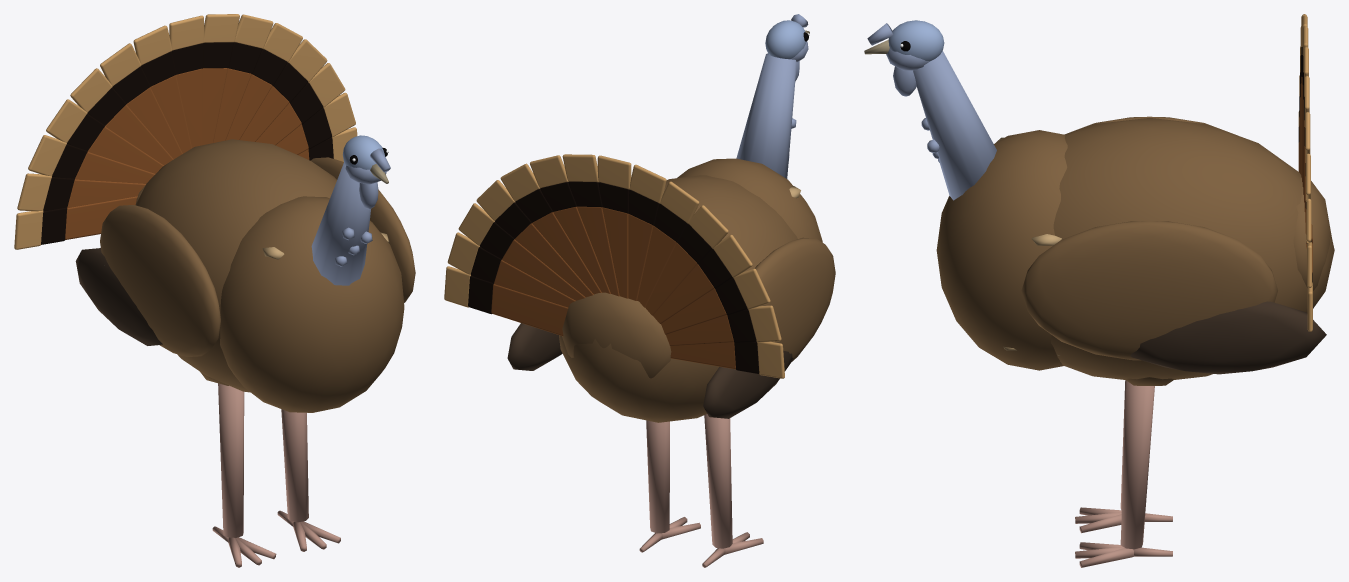
The model's file is turkeyhen.glb.
3 views of the same model, side by side, from view 1: azimuth 30°, elevation 25°; view 2: azimuth 150°, elevation 25°; view 3: azimuth 270°, elevation 25° (orthographic). The views are drawn at different scales.
Parts seen in each view (by area): view 1: tk_breast, tk_body, tk_wingm, tk_neck, tk_leg, tk_prim, tk_leg.001, tk_wingm.001, tk_feather.012, tk_feather, tk_feather.009, tk_feather.015 (+39 smaller); view 2: tk_body, tk_wingm, tk_rump, tk_neck, tk_breast, tk_leg, tk_prim, tk_leg.001, tk_feather.042, tk_prim.001, tk_feather.021, tk_feather.024 (+43 smaller); view 3: tk_body, tk_wingm.001, tk_breast, tk_prim.001, tk_neck, tk_leg.001, tk_rump, tk_headm.
Part boxes in pixels (<box>): tk_breast: <box>220,196,404,412</box>; tk_body: <box>136,139,336,392</box>; tk_wingm: <box>100,205,220,356</box>; tk_neck: <box>311,162,370,285</box>; tk_leg: <box>218,383,244,537</box>; tk_prim: <box>75,248,162,345</box>; tk_leg.001: <box>281,409,308,522</box>; tk_wingm.001: <box>310,157,415,302</box>; tk_feather.012: <box>105,104,173,165</box>; tk_feather: <box>65,196,137,239</box>; tk_feather.009: <box>88,126,163,173</box>; tk_feather.015: <box>126,87,182,158</box>; tk_body: <box>559,175,797,422</box>; tk_wingm: <box>755,237,835,361</box>; tk_rump: <box>562,292,671,378</box>; tk_neck: <box>736,53,796,178</box>; tk_breast: <box>677,158,822,242</box>; tk_leg: <box>704,414,732,548</box>; tk_prim: <box>703,350,793,418</box>; tk_leg.001: <box>646,420,669,533</box>; tk_feather.042: <box>491,284,568,336</box>; tk_prim.001: <box>507,323,562,370</box>; tk_feather.021: <box>602,207,628,298</box>; tk_feather.024: <box>577,206,619,296</box>; tk_body: <box>1051,118,1334,379</box>; tk_wingm.001: <box>1021,221,1277,360</box>; tk_breast: <box>936,130,1067,370</box>; tk_prim.001: <box>1130,301,1326,374</box>; tk_neck: <box>913,51,996,200</box>; tk_leg.001: <box>1120,381,1154,549</box>; tk_rump: <box>1293,177,1331,290</box>; tk_headm: <box>888,20,944,61</box>.
Size of the model in its own units: 1.38 by 1.78 by 1.47.
